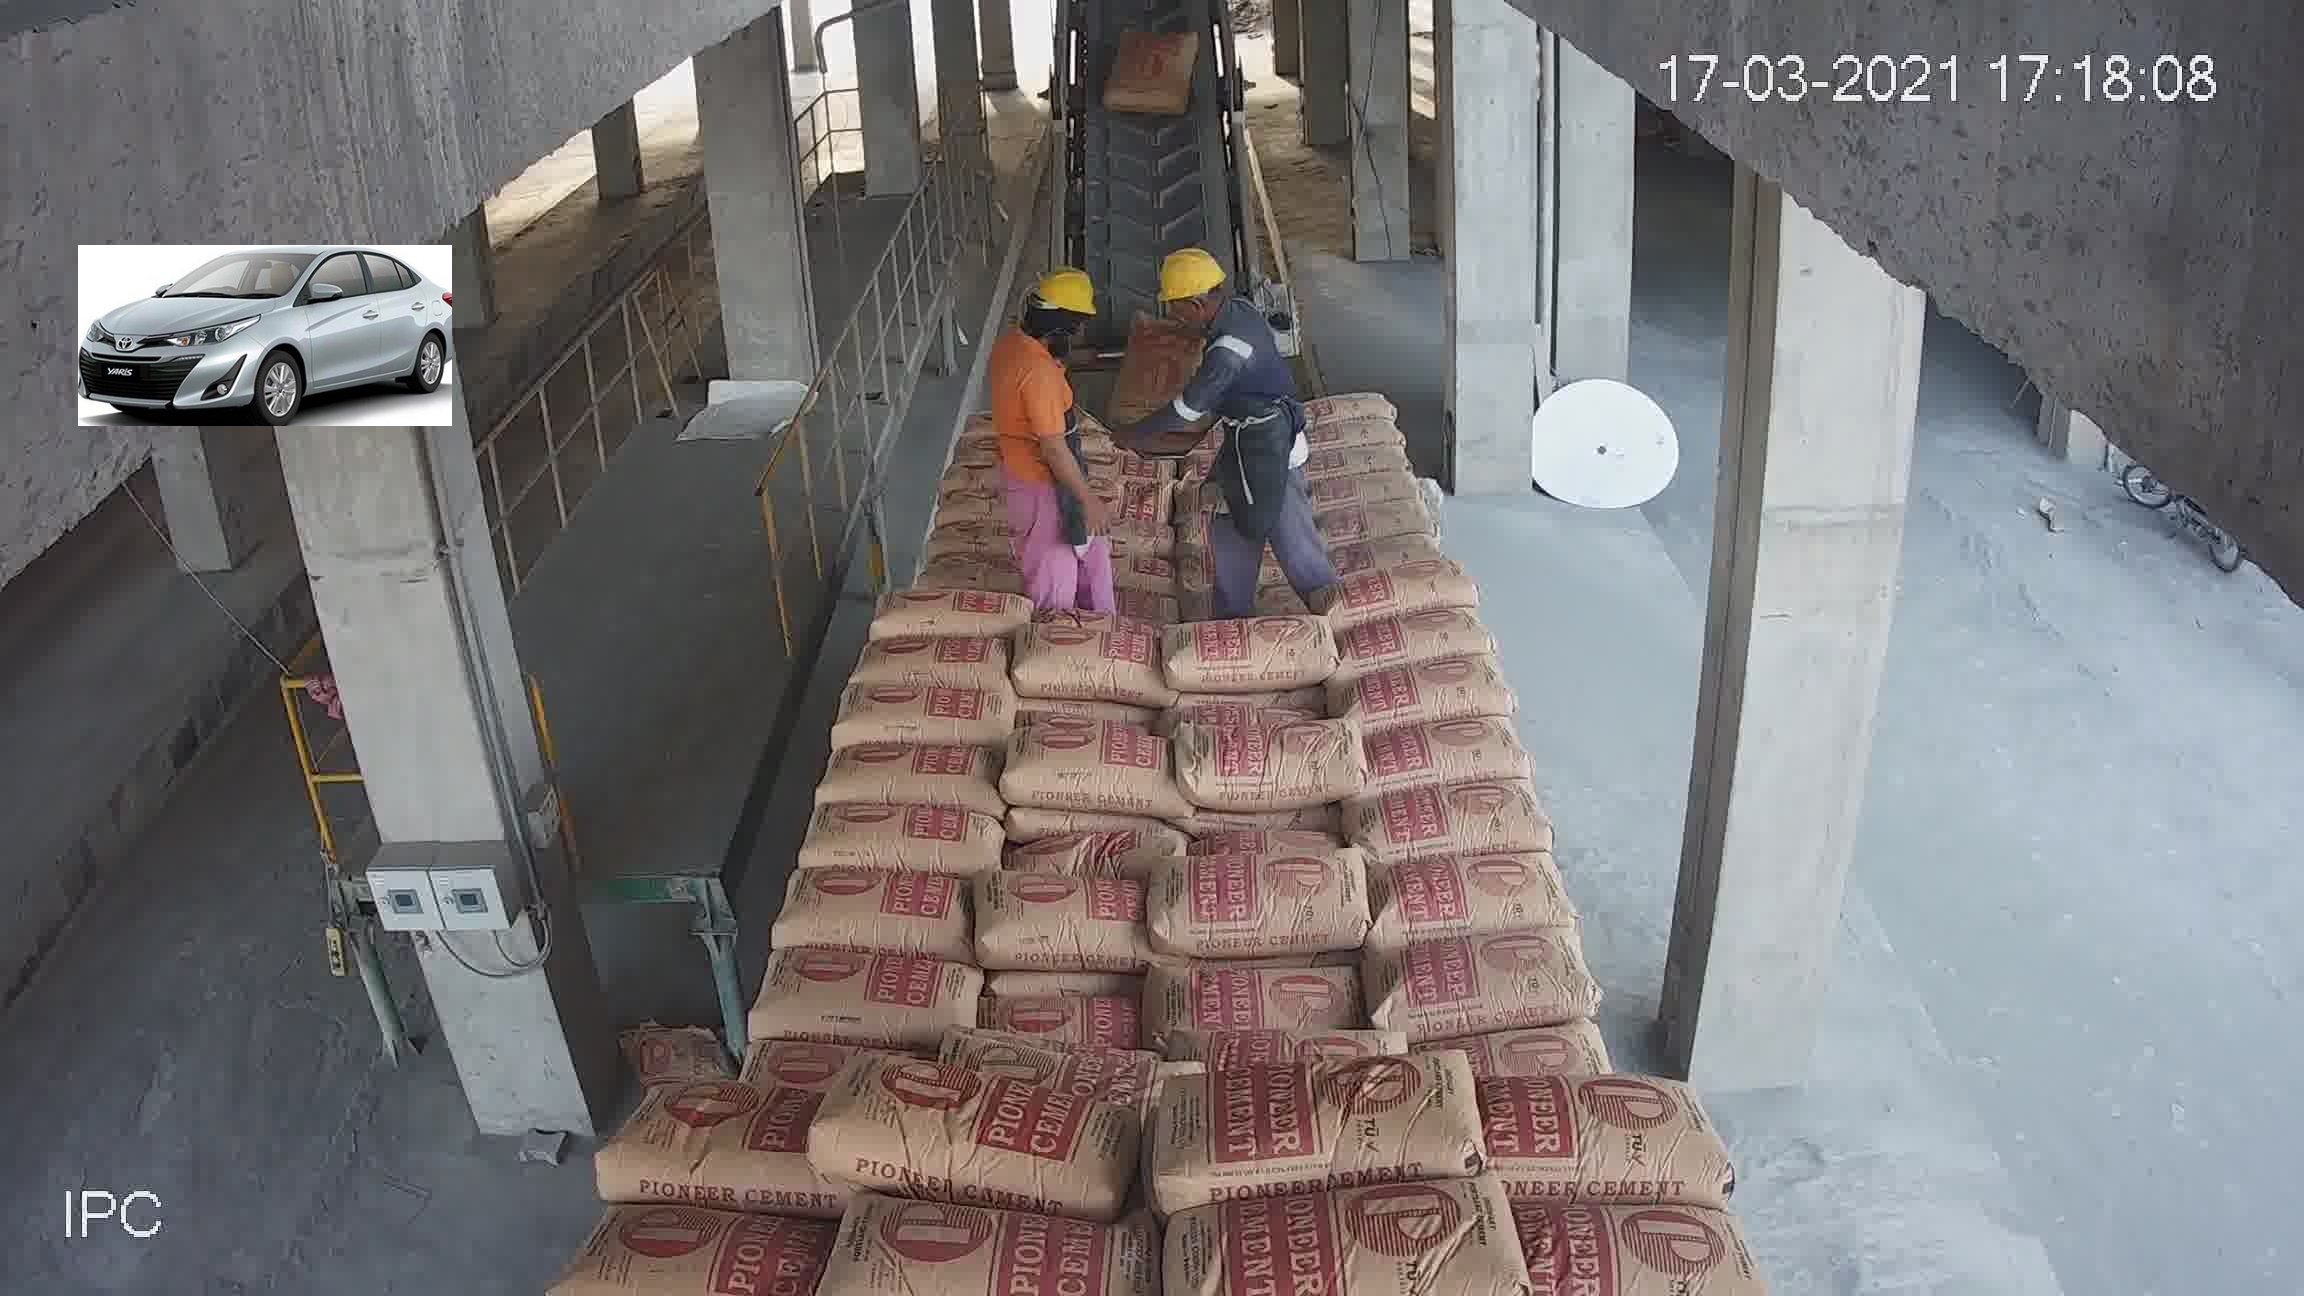bag: (1109, 28, 1193, 116)
bag_h: (1136, 1060, 1467, 1199), (813, 1048, 1131, 1190), (807, 1188, 1150, 1294), (1478, 1073, 1744, 1192), (601, 1060, 824, 1187), (1147, 959, 1370, 1065), (1378, 924, 1592, 1033), (1157, 853, 1381, 953), (755, 951, 983, 1048), (975, 866, 1154, 975), (771, 866, 980, 959), (1366, 847, 1568, 940), (1000, 722, 1190, 817), (1158, 612, 1345, 707), (1173, 718, 1366, 810), (953, 1033, 1169, 1108), (809, 737, 1014, 812), (1348, 780, 1549, 851), (802, 807, 1011, 875), (1010, 619, 1166, 709), (1358, 707, 1525, 788), (836, 684, 1021, 752), (983, 983, 1157, 1048), (853, 628, 1014, 696), (1029, 826, 1198, 889), (1351, 657, 1510, 723), (869, 581, 1036, 642), (1326, 563, 1483, 628), (1336, 600, 1491, 660), (1315, 525, 1443, 576), (1315, 494, 1434, 548), (1283, 385, 1397, 426), (916, 552, 1025, 595), (1304, 445, 1412, 484), (1307, 472, 1429, 506), (1310, 419, 1412, 457), (919, 527, 1022, 562), (932, 487, 1013, 529)
bag_v: (1108, 315, 1198, 427)
belt: (1057, 16, 1263, 377)
